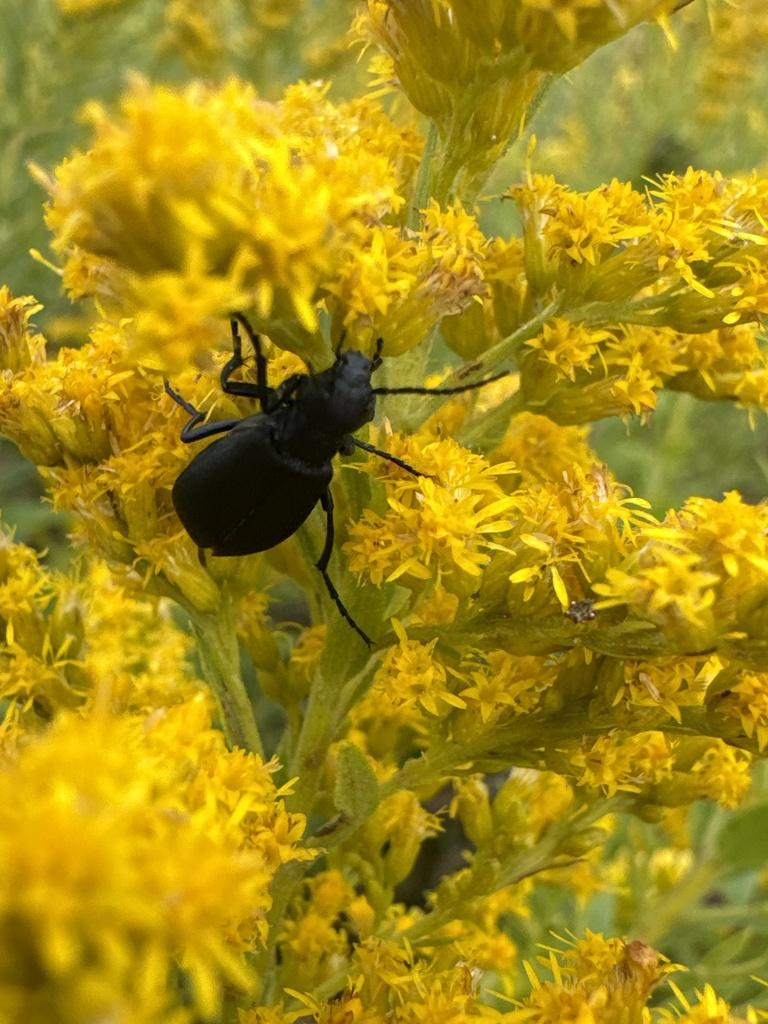blister_beetle: (111, 255, 551, 675)
